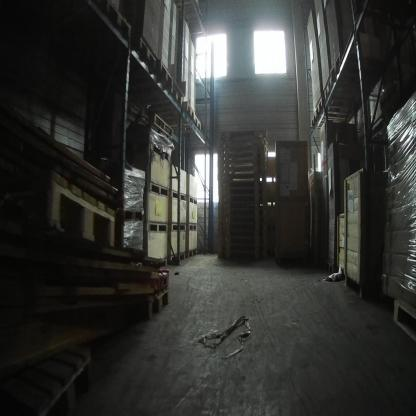pallet: (32, 168, 116, 250), (129, 102, 174, 138), (127, 110, 172, 142), (131, 285, 170, 321), (101, 1, 131, 41), (329, 53, 357, 83), (130, 38, 156, 69), (135, 140, 171, 162), (311, 110, 349, 128), (324, 77, 351, 102), (316, 97, 346, 118), (156, 59, 173, 88), (172, 115, 201, 131), (174, 101, 196, 121), (149, 180, 169, 199), (170, 84, 183, 108), (143, 221, 168, 232), (123, 209, 144, 222), (169, 190, 186, 202), (168, 252, 186, 263), (168, 222, 186, 232), (325, 261, 334, 275), (186, 247, 197, 258), (186, 195, 197, 205), (186, 224, 197, 231)
